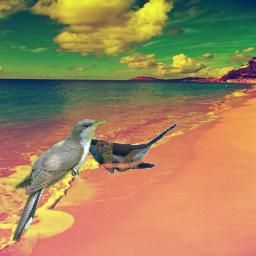Cuckoo: (12, 119, 106, 241), (75, 122, 181, 175)
